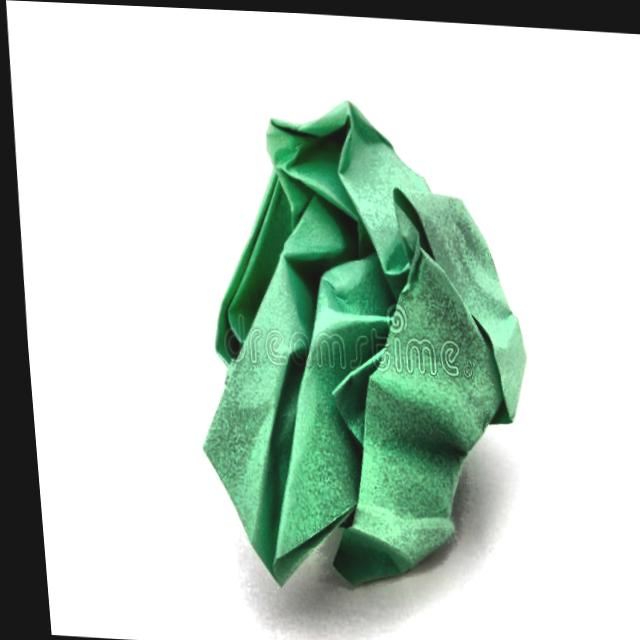Paper: (193, 96, 522, 585)
